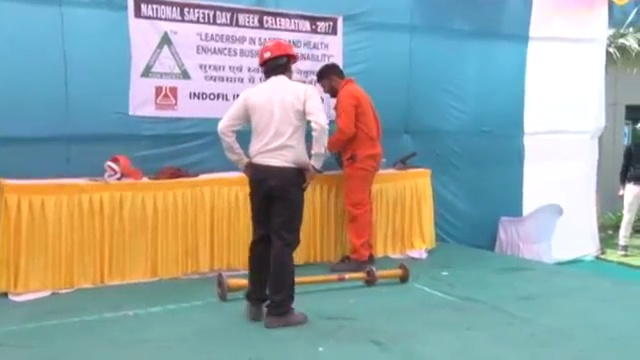helmet: (257, 39, 299, 67)
helmet_off: (316, 62, 347, 97)
helmet_on: (257, 39, 299, 79)
person: (217, 40, 329, 332), (315, 59, 383, 271), (617, 124, 640, 258)
